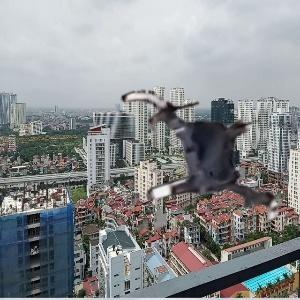drone: (109, 62, 300, 253)
